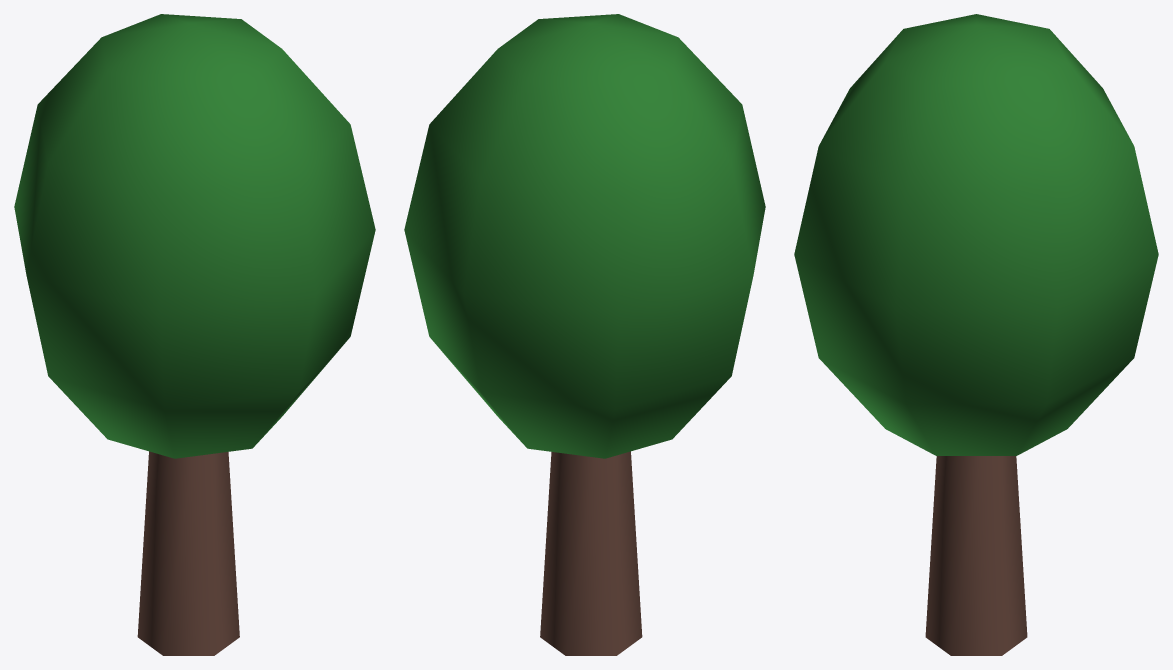
Rendered from pohon.glb.
3 renders of one model, left to right at view 1: azimuth 30°, elevation 25°; view 2: azimuth 150°, elevation 25°; view 3: azimuth 270°, elevation 25°, orthographic.
Bounding box in the file's own units: 1.05 × 1.99 × 1.07.
